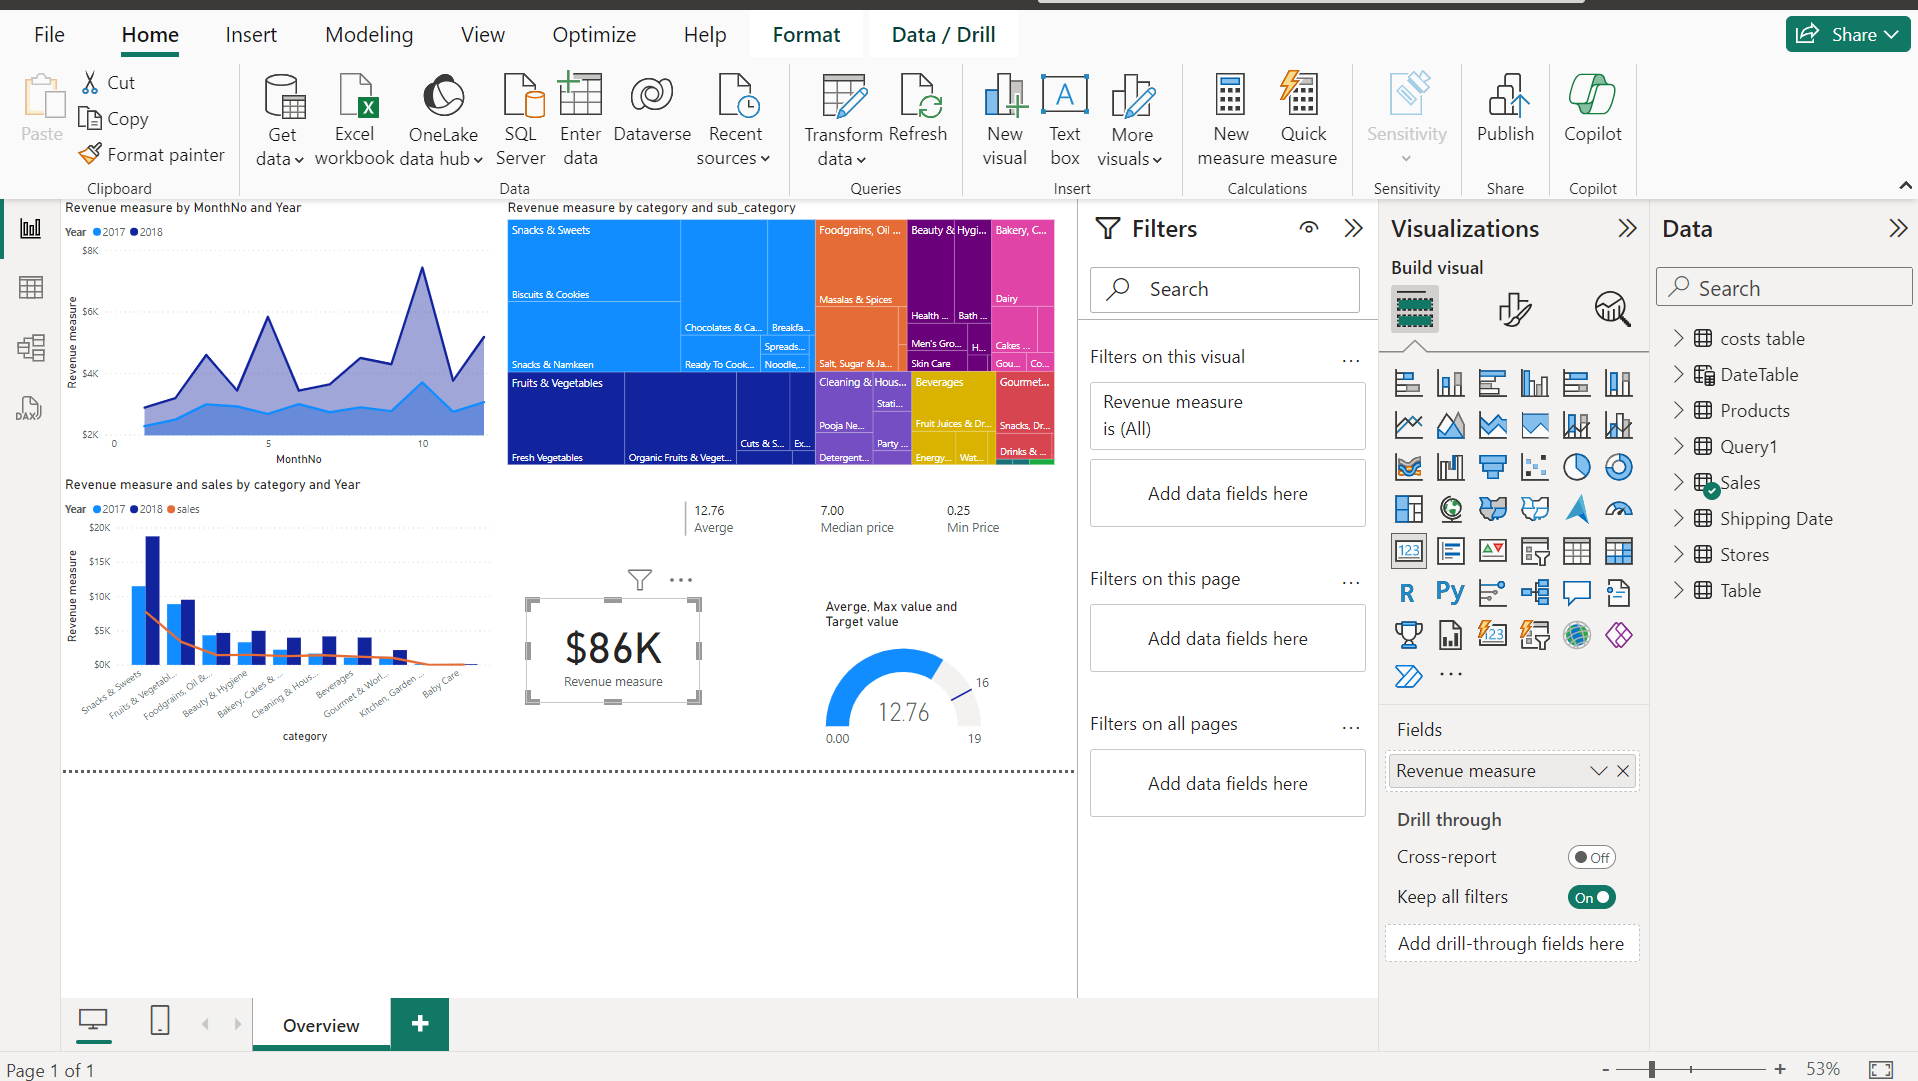

The page's visual inventory and layout, read from the dashboard file:
{"tool":"powerbi","page":{"name":"Overview","canvas":[1280,720],"ordinal":1},"visuals":[{"type":"areaChart","fields":{"Category":["DateTable.MonthNo"],"Y":["Sales.Revenue measure"],"Series":["DateTable.Year"]},"box":[732.4,380.3,547.6,339.5],"z":0},{"type":"lineClusteredColumnComboChart","fields":{"Category":["DateTable.Date Hierarchy.Year","DateTable.Date Hierarchy.Quarter","DateTable.Date Hierarchy.MonthName","DateTable.Date Hierarchy.Day"],"Y":["Sales.Revenue measure"],"Y2":["Sum(Sales.sales)"]},"box":[200.4,349.2,514.5,338.5],"z":1000},{"type":"treemap","fields":{"Values":["Sales.Revenue measure"],"Group":["Products.category"],"Details":["Products.sub_category"]},"box":[732.4,0,525.2,339.5],"z":2000},{"type":"gauge","title":"Progress to target price","fields":{"Y":["Sales.Averge"],"MaxValue":["Sales.Max value"],"TargetValue":["Sales.Target value"]},"box":[200.4,9.7,514.5,320],"z":3000},{"type":"slicer","fields":{"Values":["Stores.state"]},"box":[0,53.5,177,654.6],"z":4000},{"type":"actionButton","box":[0,0,100,40],"z":5000}]}

Visuals, with their boxes on the page's 1280x720 design canvas (x1, y1, x2, y2). These are canvas units, not pixel positions in the 1918x1081 screenshot, which may show the page scaled, cropped or inside an application window:
areaChart - DateTable.MonthNo x Sales.Revenue measure: 732, 380, 1280, 720
lineClusteredColumnComboChart - DateTable.Date Hierarchy.Year x DateTable.Date Hierarchy.Quarter: 200, 349, 715, 688
treemap - Sales.Revenue measure x Products.category: 732, 0, 1258, 340
"Progress to target price" gauge: 200, 10, 715, 330
slicer - Stores.state: 0, 54, 177, 708
actionButton: 0, 0, 100, 40
